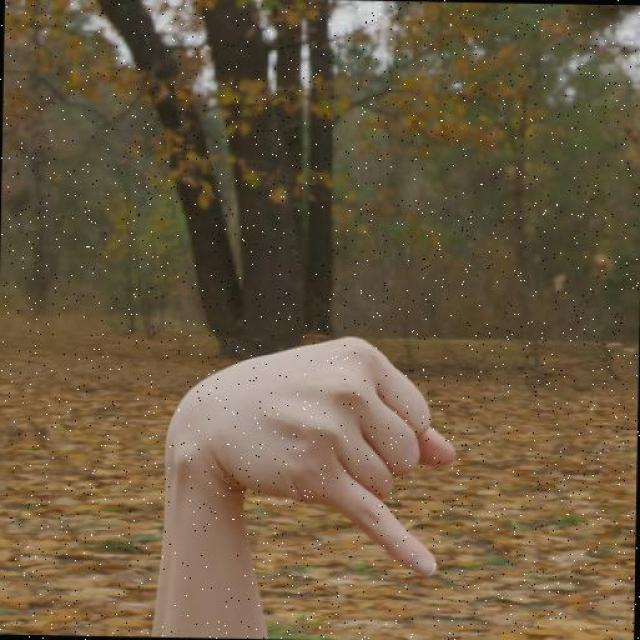J: (158, 328, 461, 582)
